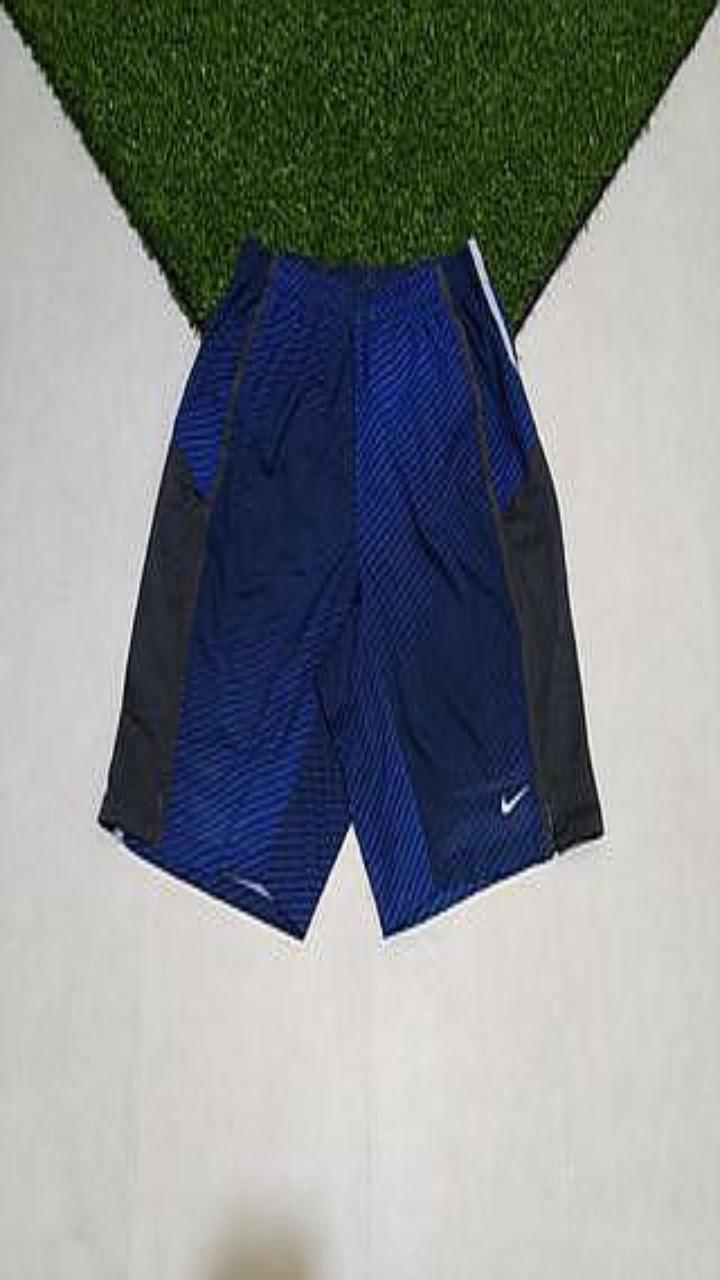Shorts: (99, 236, 602, 937)
